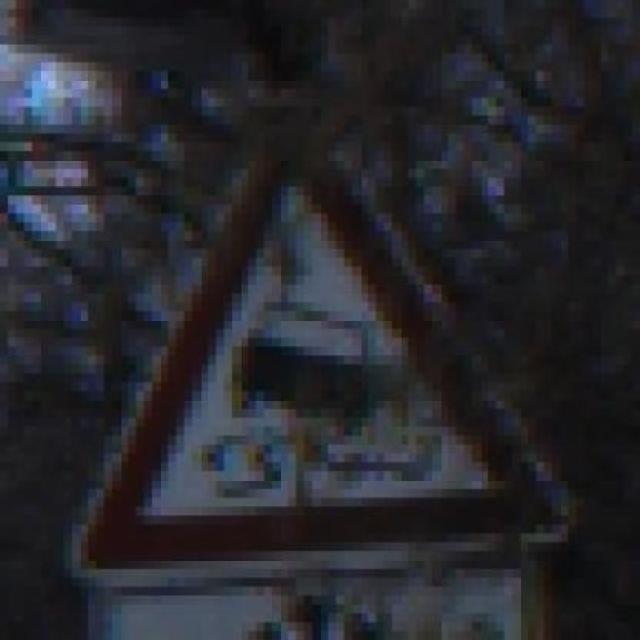Slippery Road Ahead: (68, 116, 580, 586)
